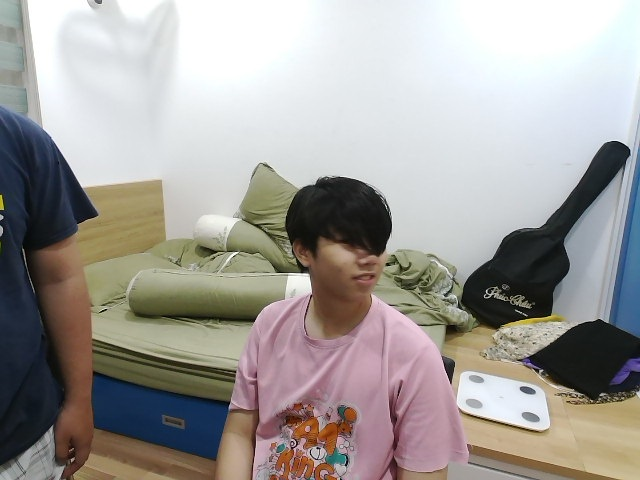face: (285, 177, 392, 303)
